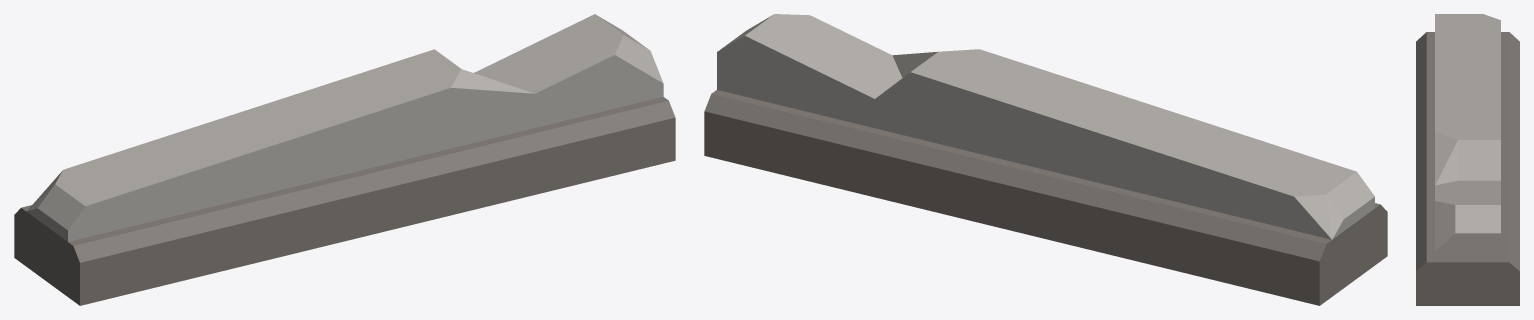
Rendered from Wall 10.FBX.
The picture shows the model from 3 angles, left to right: view 1: azimuth 30°, elevation 25°; view 2: azimuth 150°, elevation 25°; view 3: azimuth 270°, elevation 25°; orthographic projection. The views are drawn at different scales.
Parts seen in each view (by area): view 1: Wall 10; view 2: Wall 10; view 3: Wall 10.
Part boxes in pixels (bbox=[...]): Wall 10: bbox=[14, 14, 675, 305]; Wall 10: bbox=[704, 14, 1387, 305]; Wall 10: bbox=[1416, 14, 1519, 305].
Size of the model in its own units: 400 by 75.71 by 76.34.
Materials: 1 (1 with a texture image).
